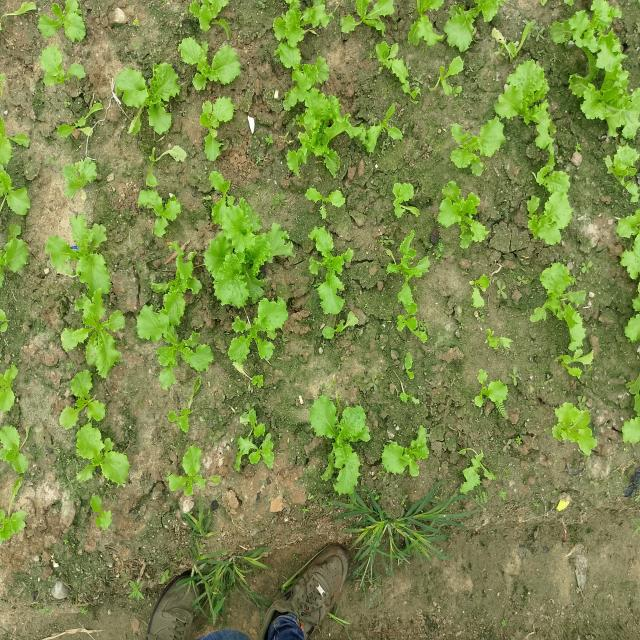Lettuce: (204, 177, 286, 302), (282, 80, 394, 167), (40, 223, 136, 298), (137, 292, 215, 384), (54, 296, 138, 368), (555, 4, 637, 76), (530, 261, 597, 348), (496, 69, 564, 150), (576, 63, 640, 144), (64, 414, 138, 484), (112, 60, 178, 135), (376, 239, 440, 312), (428, 176, 486, 256), (305, 393, 375, 456), (302, 226, 352, 307), (175, 36, 248, 91), (160, 443, 224, 502), (270, 2, 332, 61), (547, 399, 604, 461), (226, 407, 282, 469), (528, 163, 572, 236), (53, 376, 115, 426), (60, 154, 112, 208), (381, 433, 435, 480), (136, 183, 187, 232), (196, 96, 238, 154), (39, 0, 93, 45), (0, 417, 35, 481), (340, 0, 401, 34), (0, 230, 30, 296), (599, 140, 640, 186), (0, 162, 32, 220), (302, 186, 349, 219), (0, 493, 26, 548), (82, 496, 119, 532), (162, 404, 202, 433), (2, 359, 20, 421), (612, 208, 640, 247), (618, 408, 640, 450)
